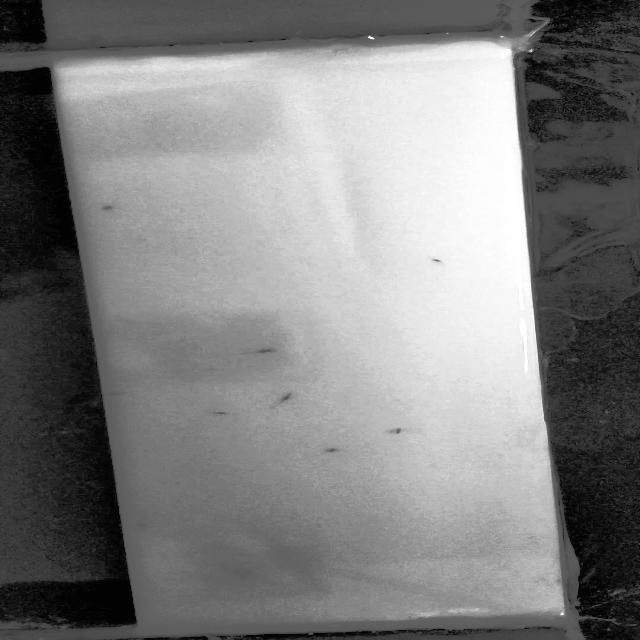shrimp: (267, 385, 305, 410), (195, 404, 241, 423), (237, 340, 282, 358), (94, 200, 130, 214), (425, 252, 448, 267), (385, 426, 409, 438), (322, 445, 343, 457), (100, 390, 125, 400), (220, 564, 232, 570), (236, 574, 250, 579), (245, 571, 254, 576), (232, 569, 243, 573)
